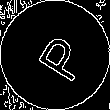P_NW: (24, 26, 86, 84)
